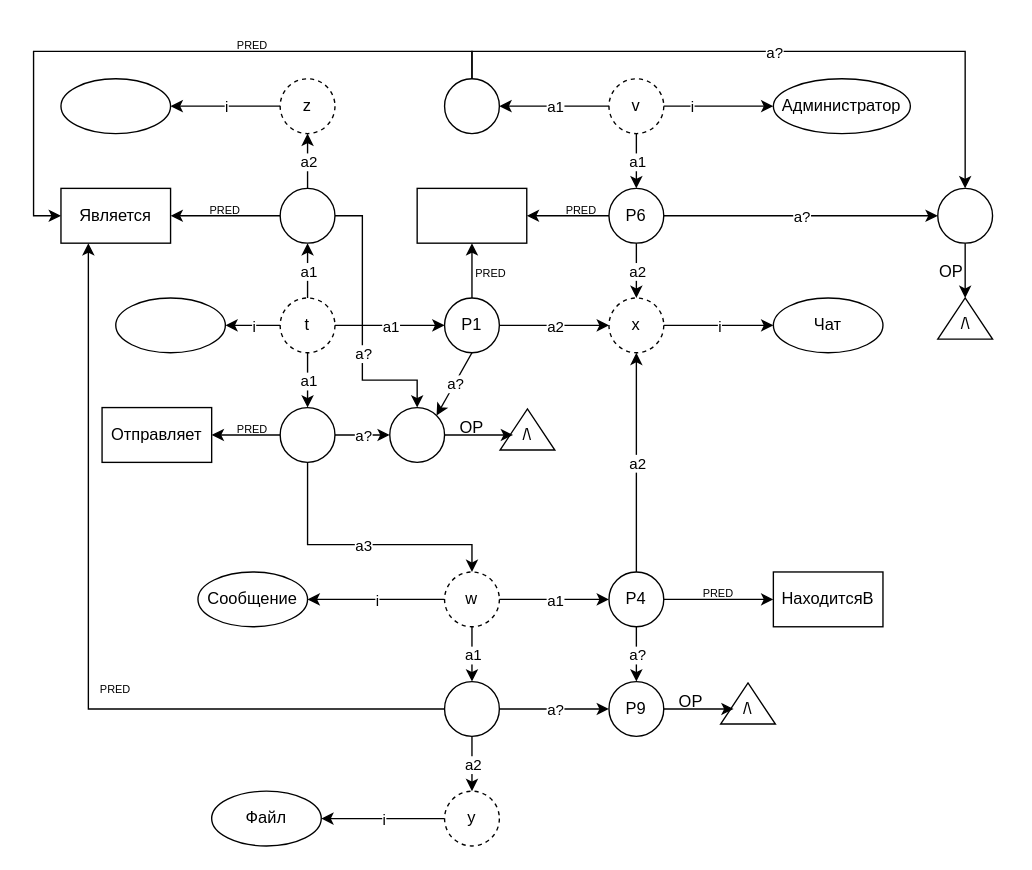
The diagram is 1032 pixels wide and 870 high, and some of its shapes have lost their labels. The shapes that lost their labels are listed below. From the top down, each one's centre as x and y in pixels, then its label:
At [115,105]: "Член чата".
At [471,105]: "P7".
At [307,215]: "P3".
At [471,215]: "СостоитВ".
At [964,215]: "P10".
At [169,325]: "Пользователь".
At [307,434]: "P2".
At [416,434]: "P8".
At [471,708]: "P5".
